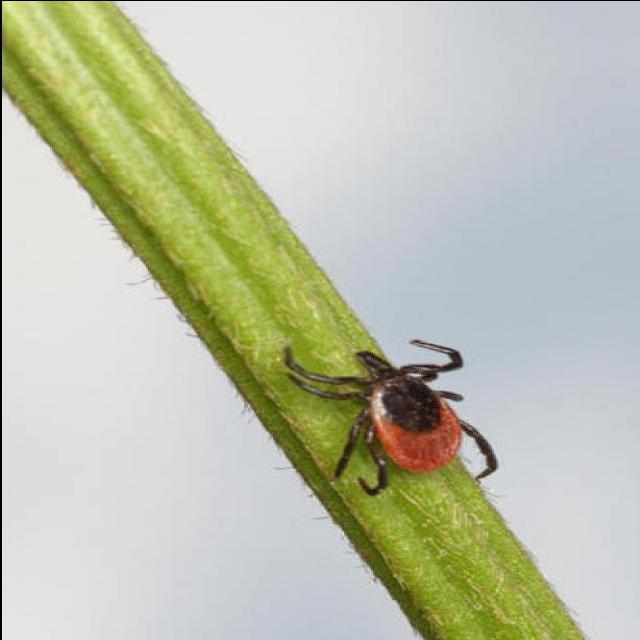Ixodes Ricinus-F: (281, 339, 496, 495)
